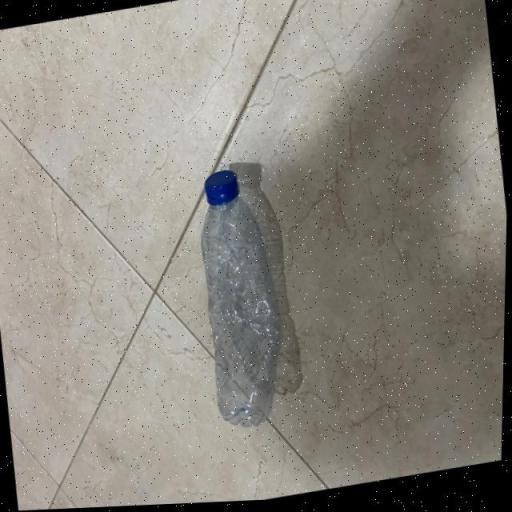plastic: (189, 162, 300, 436)
